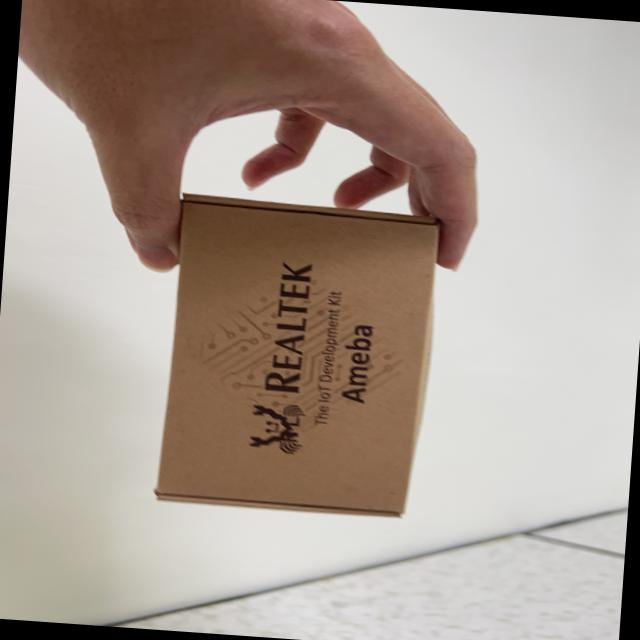box: (140, 172, 454, 536)
